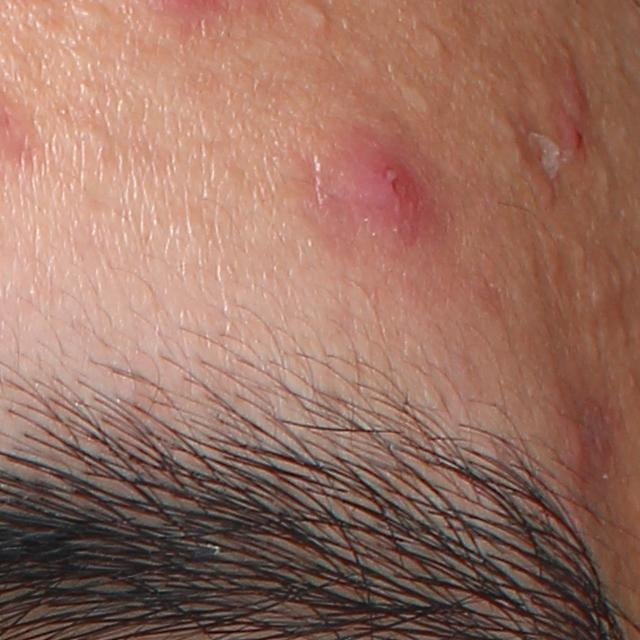comedo: (299, 2, 331, 40), (406, 87, 440, 121)
papule: (341, 127, 437, 244), (562, 420, 615, 488)
